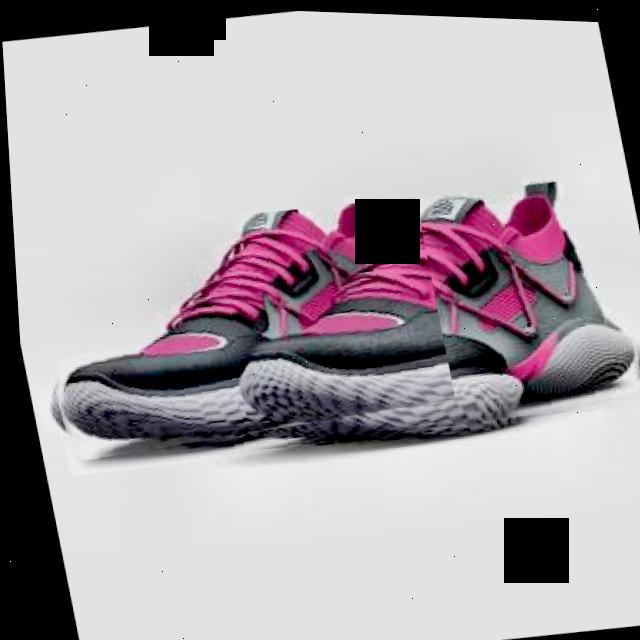shoe: (184, 159, 640, 464), (9, 182, 458, 475)
